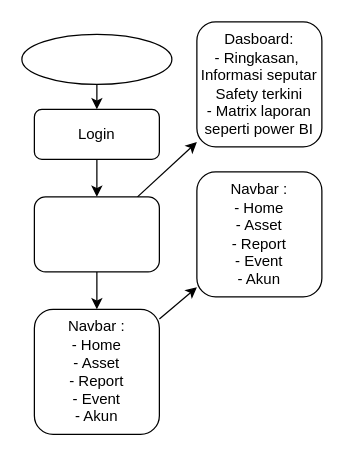
Some shapes in this 344 by 456 pixel diagram are drawn without their labels. The shapes that lost their labels are listed below. From the top down, each one's centre as x and y in pixels, then its label:
the point at 96,58: Masuk ke Sistem
the point at 96,234: Tampilan Awal : - Dasboard - Navbar
